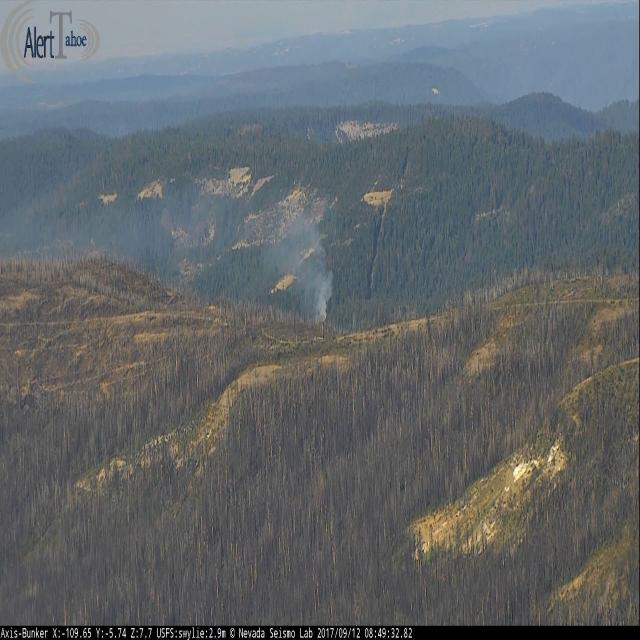smoke: (276, 212, 334, 320)
